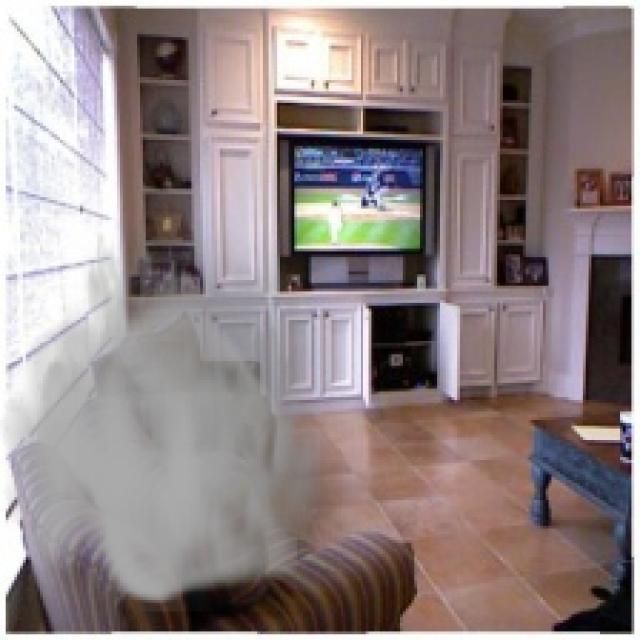Smoke: (0, 194, 343, 612)
